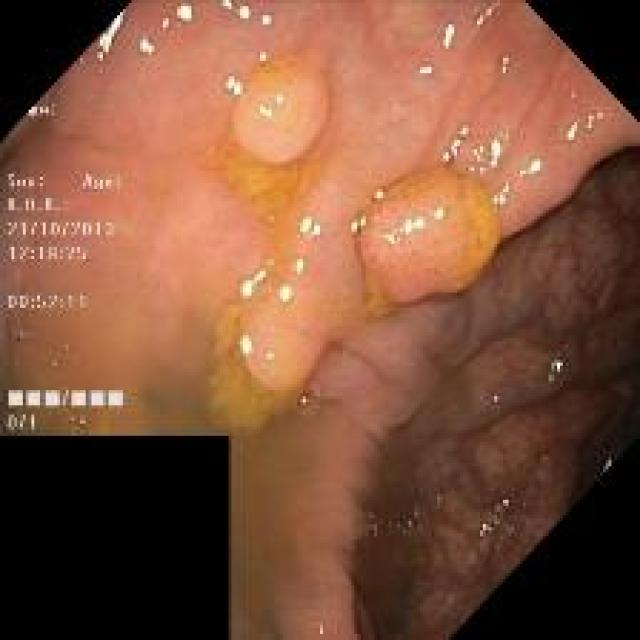Polyps: (358, 171, 500, 302), (232, 59, 329, 165)
